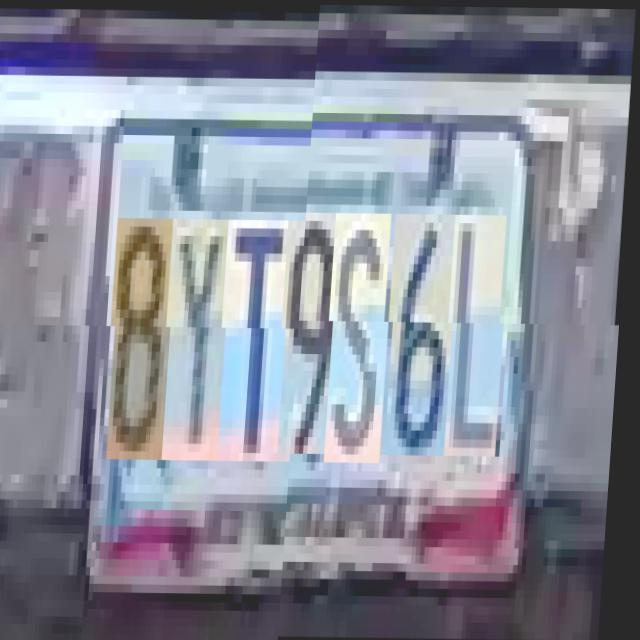6: (390, 220, 462, 462)
8: (113, 218, 181, 460)
9: (284, 219, 352, 462)
L: (449, 222, 514, 464)
S: (329, 220, 398, 470)
T: (224, 218, 296, 461)
Y: (168, 218, 236, 460)
